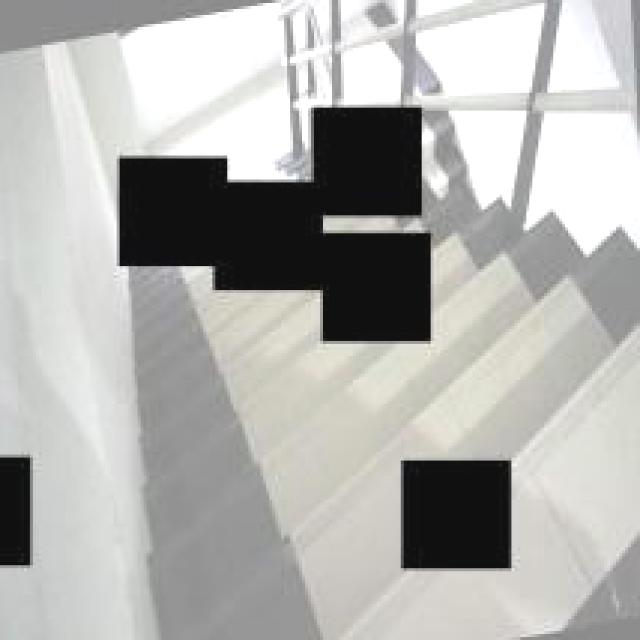downstair: (130, 366, 402, 640)
